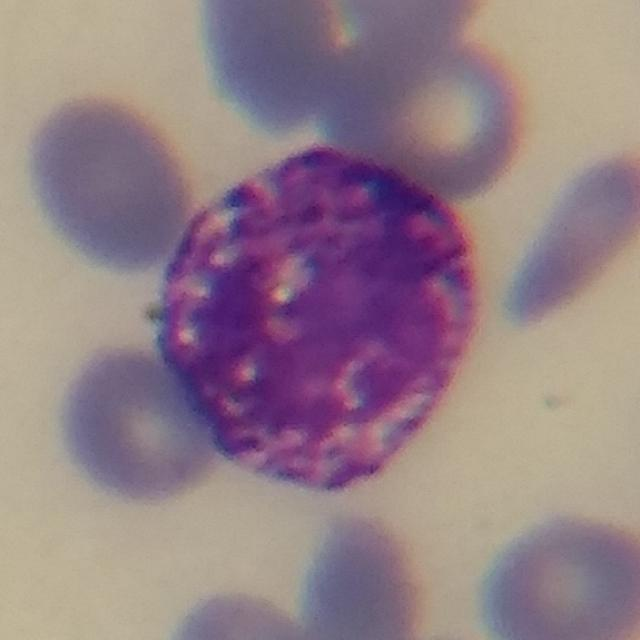Basophil: (152, 145, 483, 500)
RBC: (17, 86, 204, 279), (352, 30, 538, 202), (51, 335, 228, 510), (488, 140, 640, 336), (189, 0, 355, 139), (472, 504, 640, 640), (292, 505, 436, 640), (162, 583, 320, 640), (330, 0, 488, 48)
